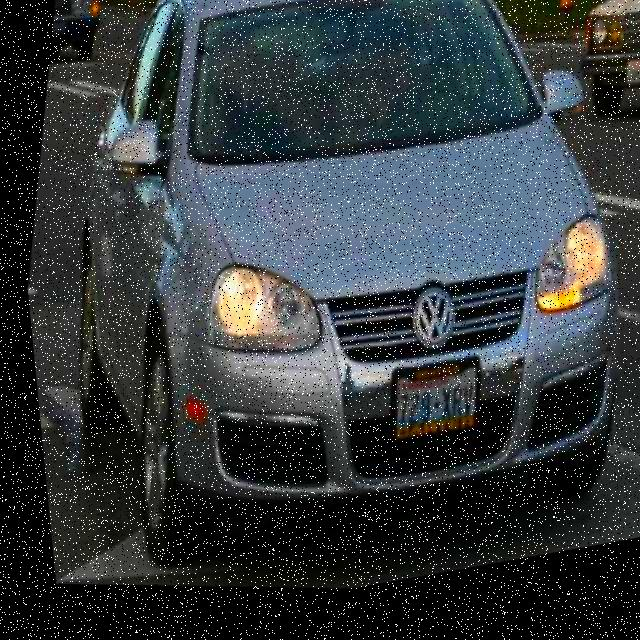license_plate: (368, 352, 483, 474), (620, 78, 640, 110), (50, 17, 68, 38)
